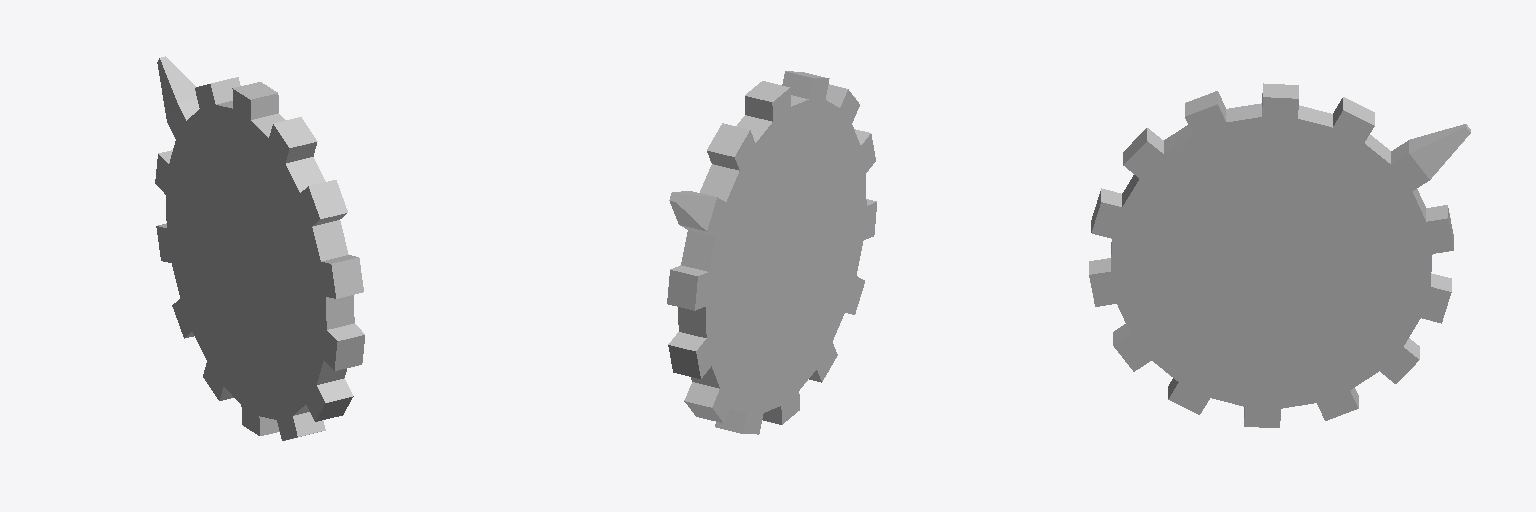
File: gear_000018.obj
The picture shows the model from 3 angles: view 1: azimuth 30°, elevation 25°; view 2: azimuth 150°, elevation 25°; view 3: azimuth 270°, elevation 25°; orthographic projection.
Parts seen in each view (by area): view 1: gear_Cylinder.001; view 2: gear_Cylinder.001; view 3: gear_Cylinder.001.
Part boxes in pixels (x1,y1,x2,y2): gear_Cylinder.001: (155, 56, 364, 440); gear_Cylinder.001: (667, 71, 876, 434); gear_Cylinder.001: (1089, 83, 1470, 427).
Bounding box in the file's own units: 0.1 × 1.13 × 1.18.